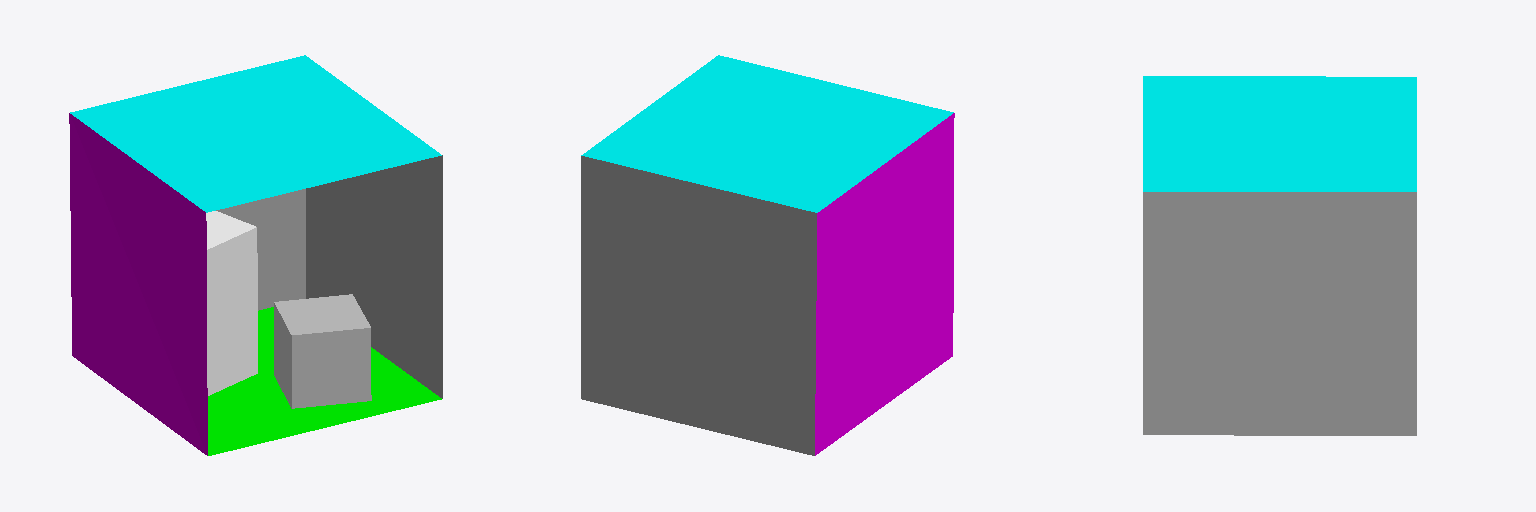
File: cornell-box.obj
3 renders of one model, left to right at view 1: azimuth 30°, elevation 25°; view 2: azimuth 150°, elevation 25°; view 3: azimuth 270°, elevation 25°, orthographic.
Visible parts, largest first — view 1: left_wall, ceiling, right_wall, floor, short_box, tall_box, back_wall; view 2: back_wall, left_wall, ceiling; view 3: right_wall, ceiling.
Boxes of the visible parts, x1,y1,x2,y2 form: left_wall: [69, 113, 207, 455]; ceiling: [70, 55, 441, 212]; right_wall: [306, 155, 442, 398]; floor: [208, 307, 441, 455]; short_box: [274, 294, 371, 408]; tall_box: [206, 211, 257, 395]; back_wall: [216, 189, 305, 310]; back_wall: [581, 156, 816, 455]; left_wall: [815, 113, 954, 455]; ceiling: [581, 55, 953, 212]; right_wall: [1143, 192, 1416, 435]; ceiling: [1143, 76, 1416, 191].
Size of the model in its own units: 5.56 by 5.49 by 5.6.